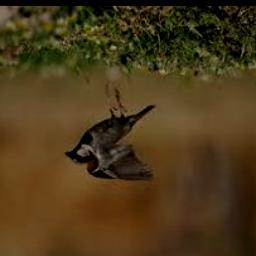Sparrow: (66, 83, 156, 181)
